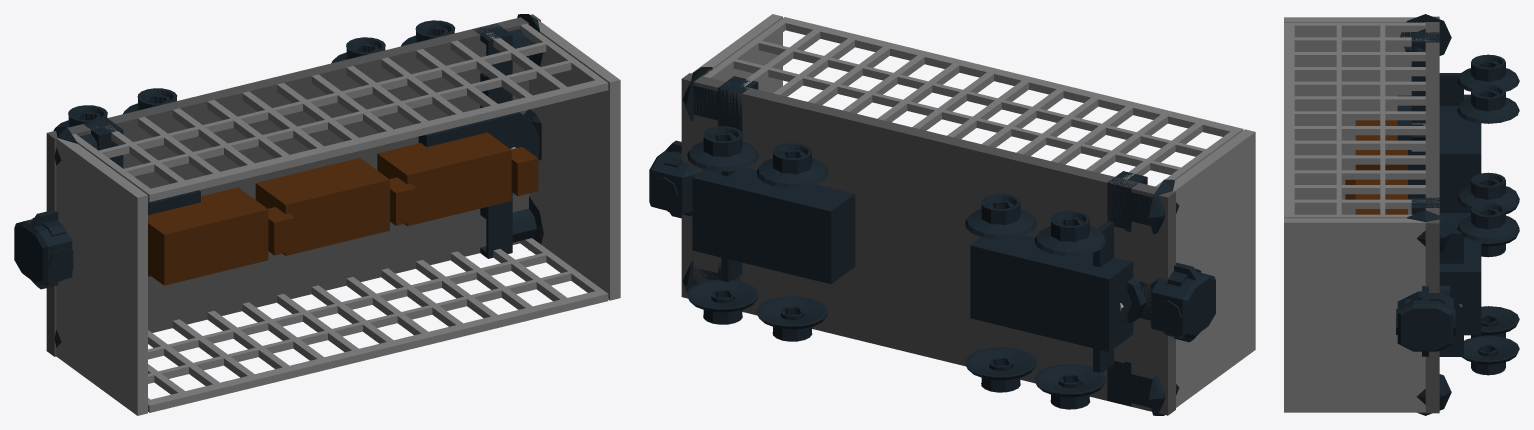
File: cattle-wagon.glb
3 views of the same model, side by side, from view 1: azimuth 30°, elevation 25°; view 2: azimuth 150°, elevation 25°; view 3: azimuth 270°, elevation 25° (orthographic). The views are drawn at different scales.
Bounding box in the file's own units: 124 × 52 × 54.
